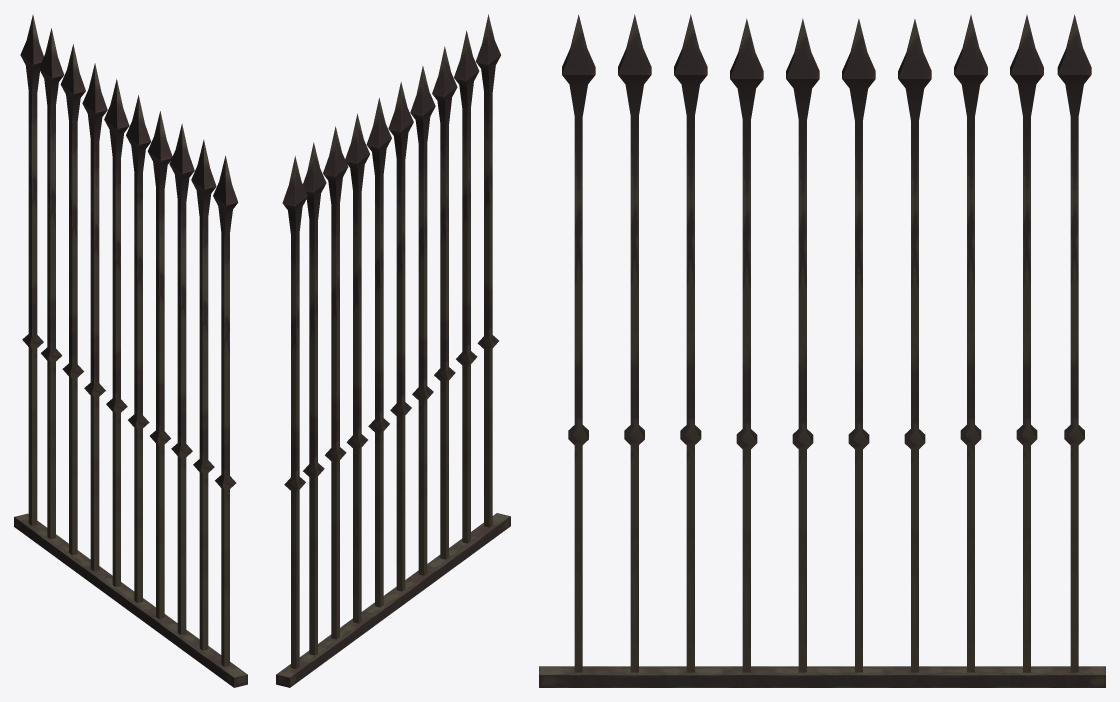
File: Spike.fbx
The picture shows the model from 3 angles, left to right: view 1: azimuth 30°, elevation 25°; view 2: azimuth 150°, elevation 25°; view 3: azimuth 270°, elevation 25°; orthographic projection. The views are drawn at different scales.
Parts seen in each view (by area): view 1: spikeFenceCentral__7_, spikeFenceCentral__8_, spikeFenceCentral__3_, spikeFenceCentral, spikeFenceCentral__2_, spikeFenceCentral__1_, spikeFenceCentral__9_, spikeFenceCentral__4_, spikeFenceCentral__5_, spikeFenceCentral__6_, fenceBar; view 2: spikeFenceCentral__6_, spikeFenceCentral__5_, spikeFenceCentral__7_, spikeFenceCentral__1_, spikeFenceCentral__3_, spikeFenceCentral__8_, spikeFenceCentral__9_, spikeFenceCentral__4_, spikeFenceCentral__2_, spikeFenceCentral, fenceBar; view 3: fenceBar, spikeFenceCentral__3_, spikeFenceCentral__7_, spikeFenceCentral__8_, spikeFenceCentral__9_, spikeFenceCentral__6_, spikeFenceCentral__5_, spikeFenceCentral__2_, spikeFenceCentral__1_, spikeFenceCentral__4_, spikeFenceCentral.
Part boxes in pixels (left/top/right/bottom): spikeFenceCentral__7_: left=169, top=123, right=194, bottom=634; spikeFenceCentral__8_: left=191, top=139, right=216, bottom=650; spikeFenceCentral__3_: left=20, top=14, right=43, bottom=525; spikeFenceCentral: left=82, top=63, right=107, bottom=571; spikeFenceCentral__2_: left=39, top=28, right=63, bottom=539; spikeFenceCentral__1_: left=60, top=44, right=85, bottom=555; spikeFenceCentral__9_: left=213, top=155, right=238, bottom=666; spikeFenceCentral__4_: left=104, top=79, right=129, bottom=586; spikeFenceCentral__5_: left=126, top=95, right=151, bottom=602; spikeFenceCentral__6_: left=147, top=111, right=172, bottom=618; fenceBar: left=14, top=513, right=247, bottom=687; spikeFenceCentral__6_: left=410, top=66, right=435, bottom=575; spikeFenceCentral__5_: left=388, top=81, right=413, bottom=591; spikeFenceCentral__7_: left=432, top=46, right=457, bottom=559; spikeFenceCentral__1_: left=323, top=126, right=348, bottom=639; spikeFenceCentral__3_: left=282, top=156, right=307, bottom=668; spikeFenceCentral__8_: left=454, top=30, right=479, bottom=543; spikeFenceCentral__9_: left=475, top=14, right=500, bottom=527; spikeFenceCentral__4_: left=366, top=98, right=391, bottom=607; spikeFenceCentral__2_: left=303, top=142, right=326, bottom=655; spikeFenceCentral: left=345, top=113, right=369, bottom=623; fenceBar: left=276, top=513, right=510, bottom=687; fenceBar: left=539, top=666, right=1105, bottom=687; spikeFenceCentral__3_: left=1057, top=14, right=1091, bottom=672; spikeFenceCentral__7_: left=674, top=14, right=707, bottom=672; spikeFenceCentral__8_: left=618, top=14, right=651, bottom=672; spikeFenceCentral__9_: left=562, top=14, right=595, bottom=672; spikeFenceCentral__6_: left=730, top=18, right=763, bottom=672; spikeFenceCentral__5_: left=786, top=18, right=819, bottom=672; spikeFenceCentral__2_: left=1010, top=15, right=1043, bottom=672; spikeFenceCentral__1_: left=954, top=15, right=987, bottom=672; spikeFenceCentral__4_: left=842, top=18, right=875, bottom=672; spikeFenceCentral: left=898, top=19, right=931, bottom=672.
Size of the model in its own units: 36.91 by 1319 by 1011.
